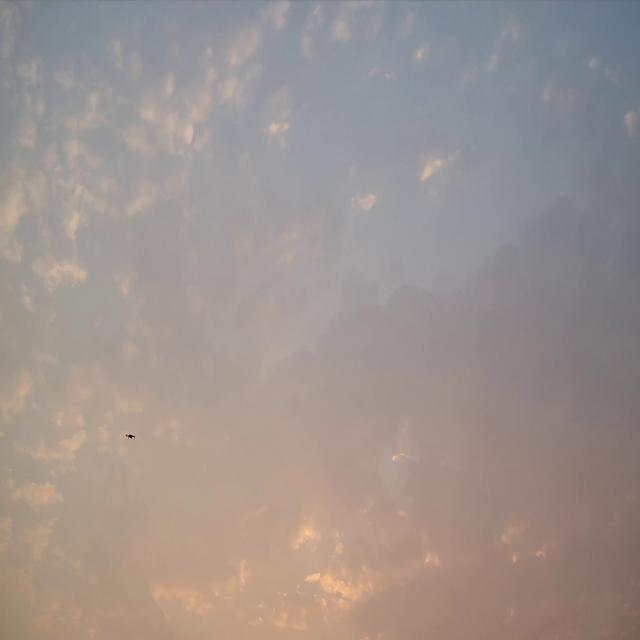drone: (124, 433, 136, 439)
